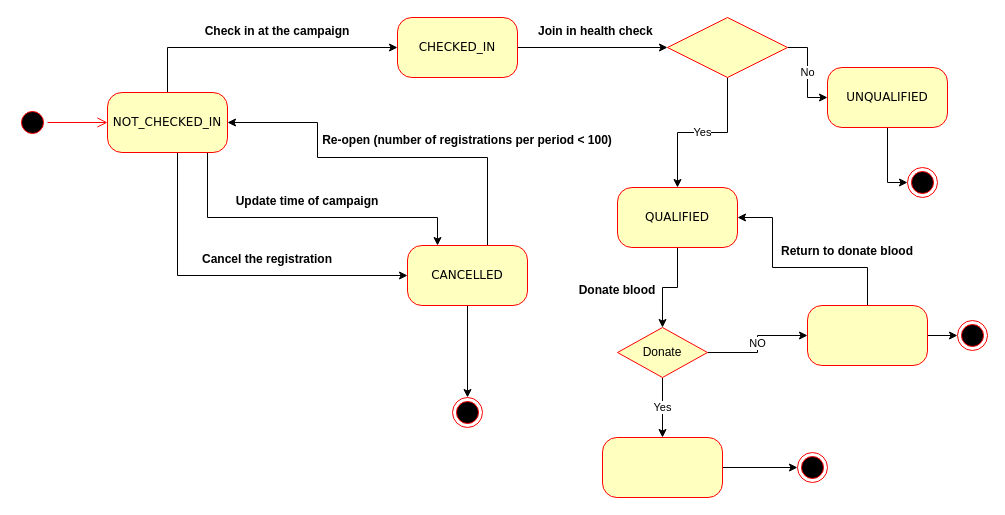
Some shapes in this 1005 by 515 pixel diagram are drawn without their labels. The centre of each missing label's shape, as x and y in pixels:
Check health: point 727,47
DONATED: point 662,467
NOT_DONATED: point 867,335
